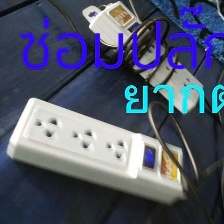three_eye_plug: (3, 93, 191, 210), (82, 1, 206, 118)
